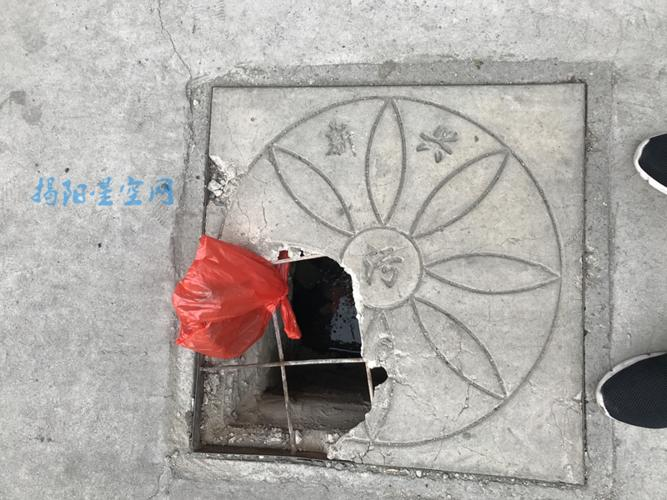broke: (128, 46, 621, 500)
